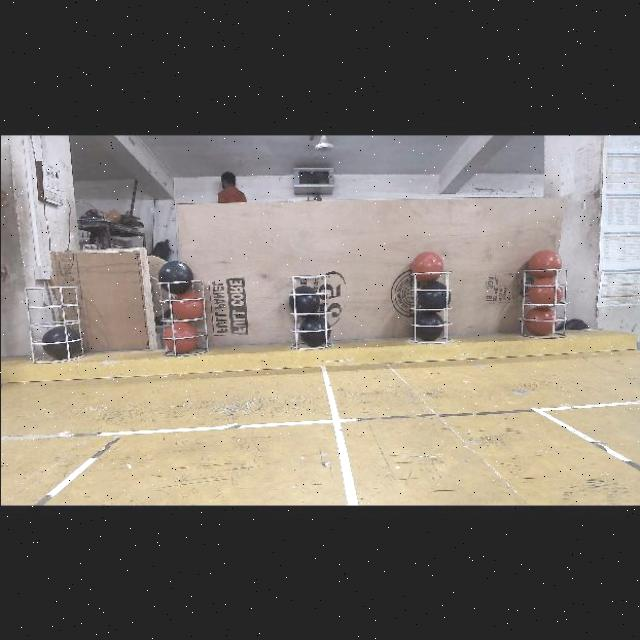P: (158, 258, 192, 293), (42, 325, 78, 357), (412, 310, 442, 338), (301, 316, 329, 344), (420, 281, 450, 307), (289, 288, 317, 312)
R: (410, 249, 442, 281), (528, 248, 562, 276), (165, 321, 198, 349), (527, 278, 561, 304), (173, 292, 203, 318), (524, 308, 556, 332)
S: (21, 280, 83, 370), (406, 260, 456, 344), (286, 268, 332, 358), (157, 274, 206, 358), (518, 260, 570, 338)
